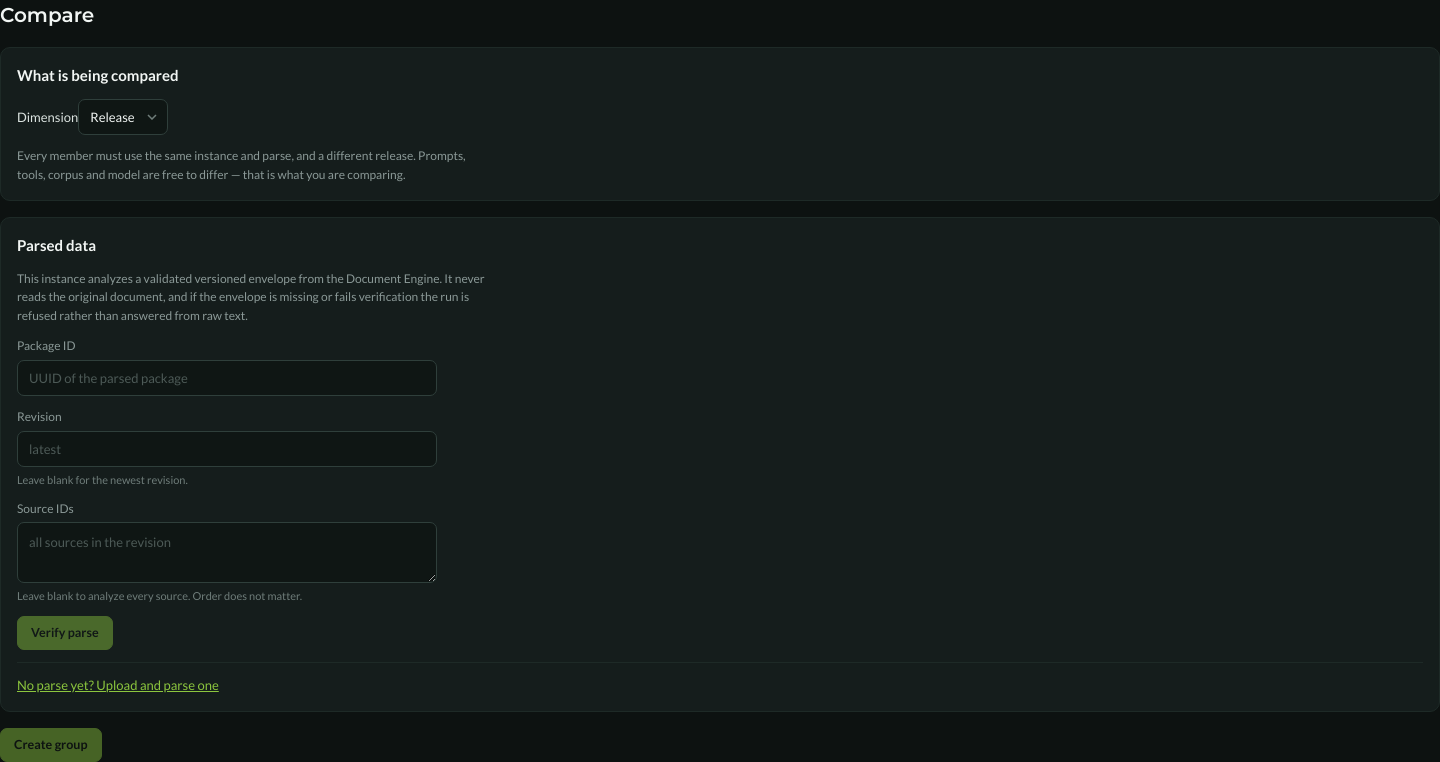
Test case: InstanceCompare › offers no way to override a model on a run
This screenshot has width=1440, height=762.
Select "Model" in the dropdown labelled "Dimension" at (123, 117), box [78,99,168,135]
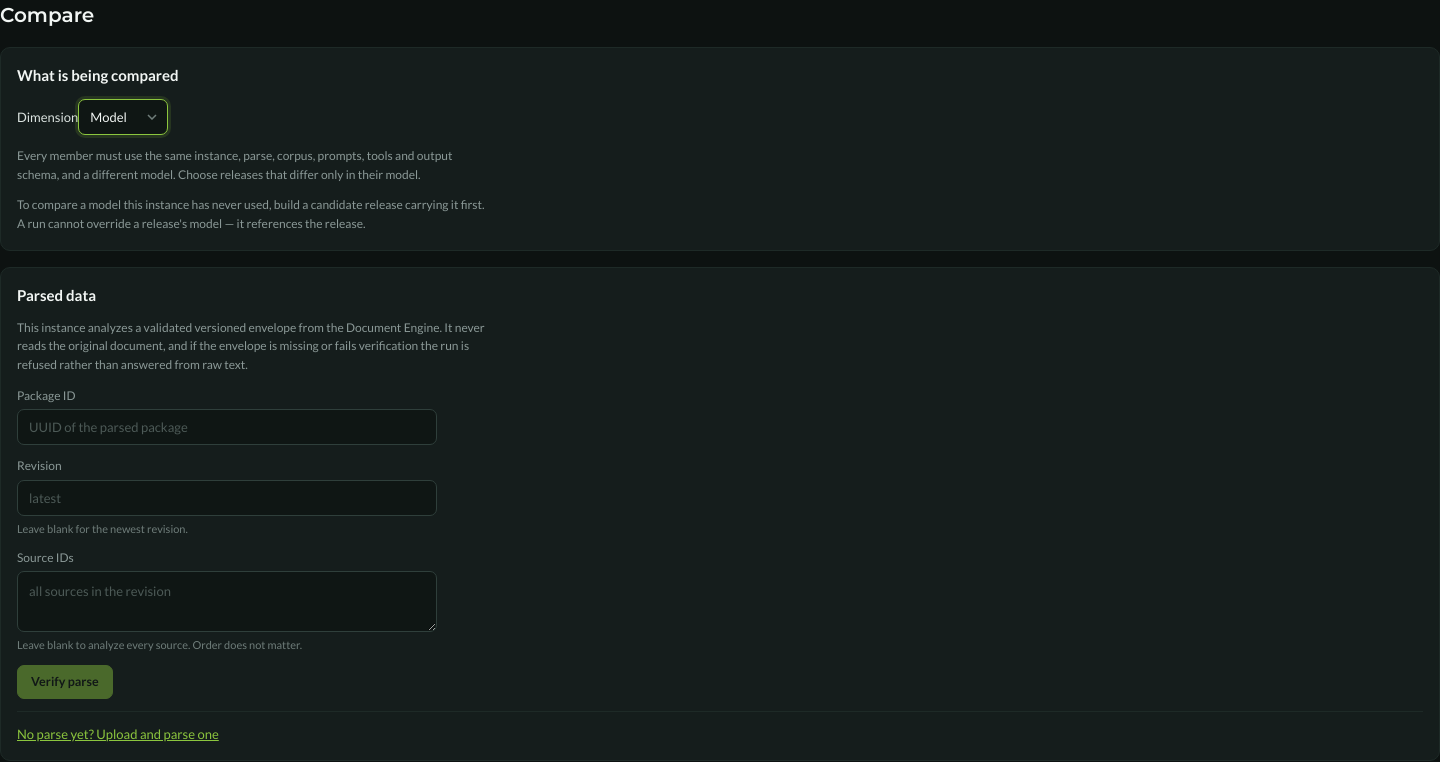
Type "44444444-4444-4444-8444-444444444444" into the field labelled "Package ID" at (227, 427), box [17,409,437,445]
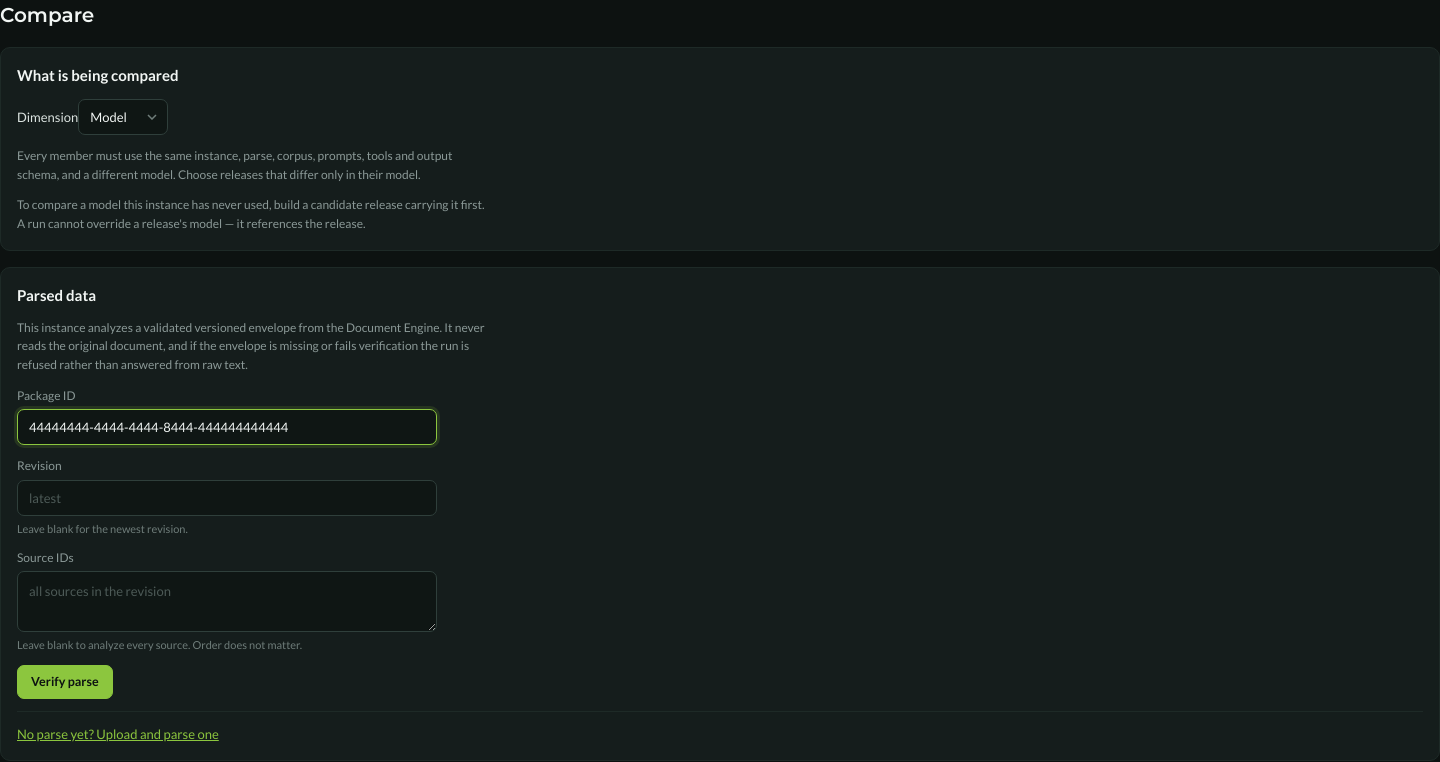
Click the button "Verify parse" at (65, 682), box [17,665,113,699]
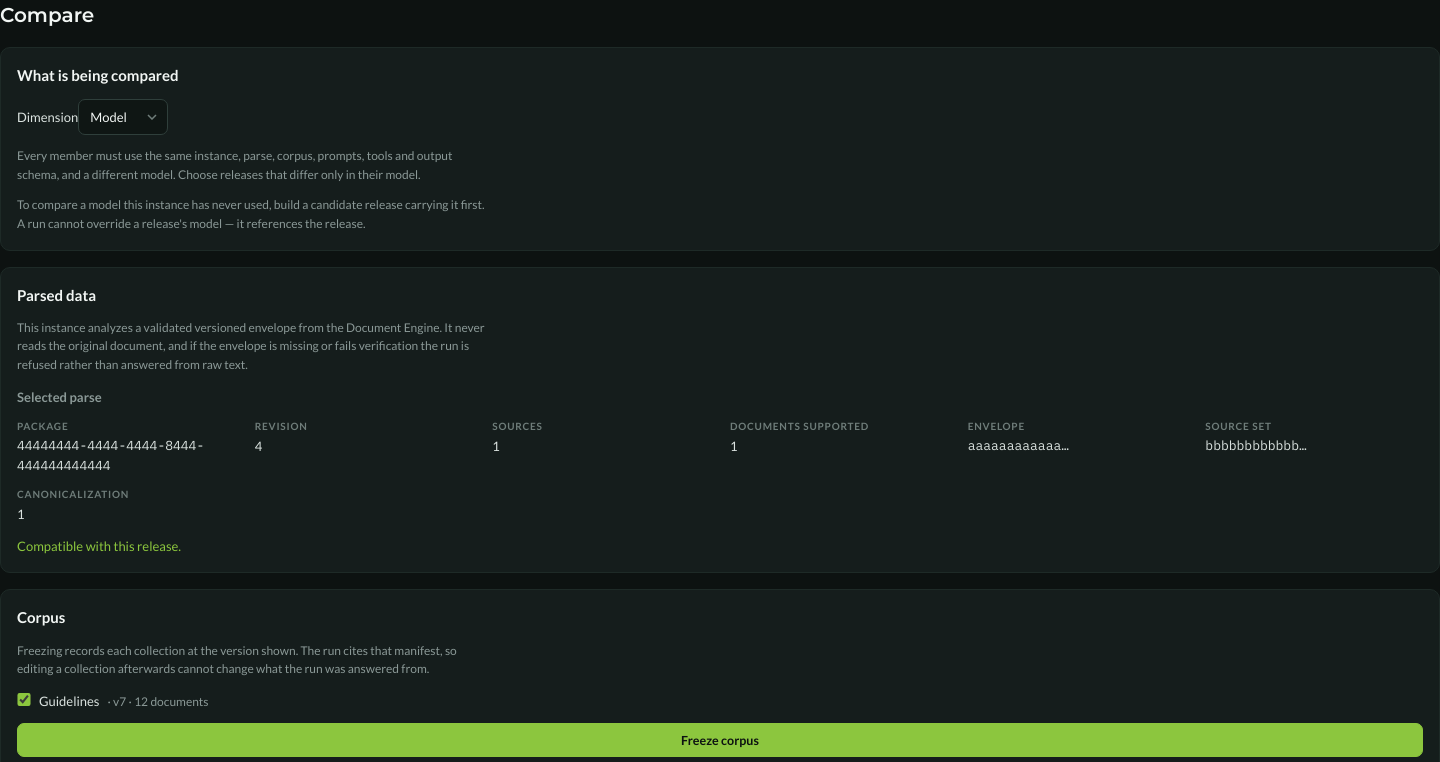
Expected: the heading "Selected parse" is shown, [17,389,102,405]
Click the button "Freeze corpus" at (720, 740), box [17,723,1423,757]
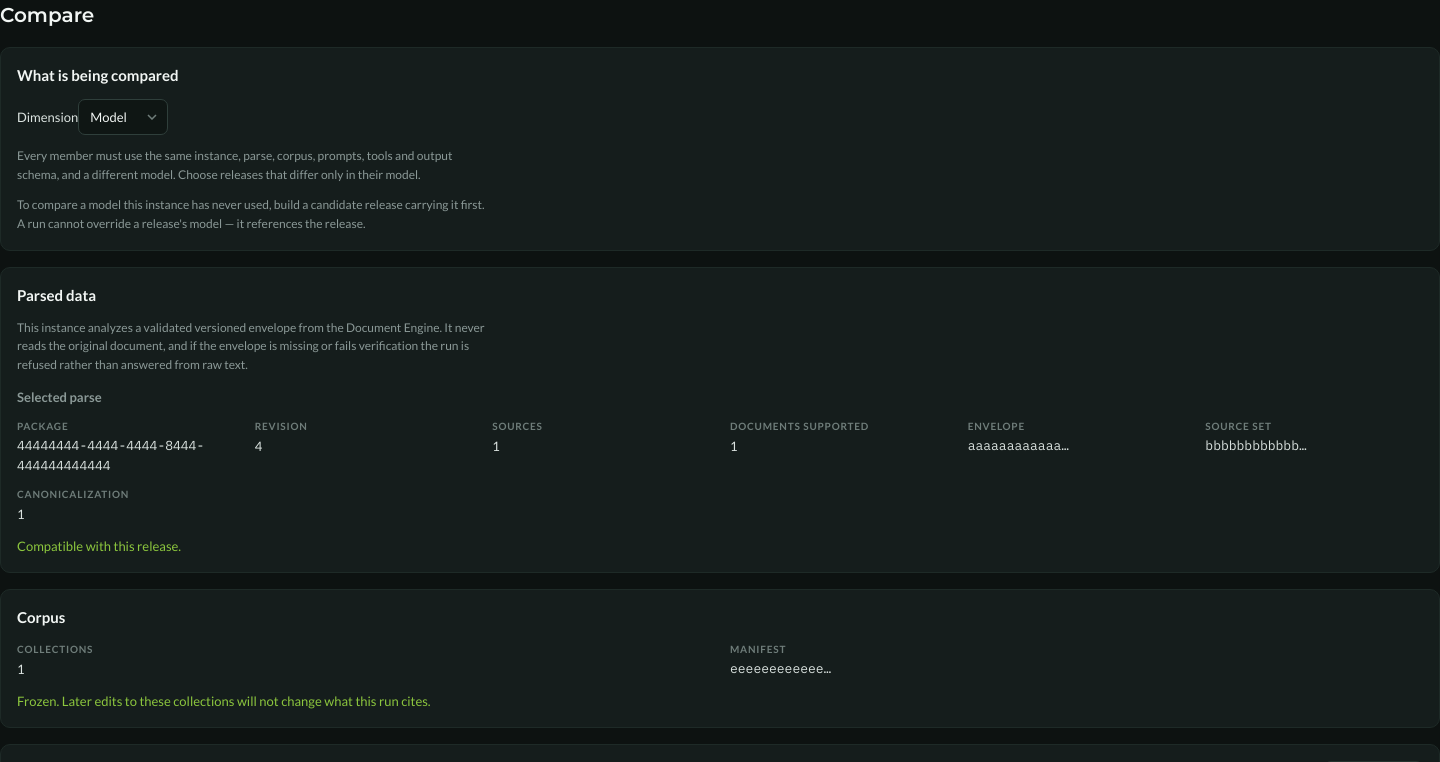
Expected: the text "build a candidate release carrying it first" is shown, [17,197,485,231]
Expected: the text "Frozen." is shown, [17,693,431,709]
